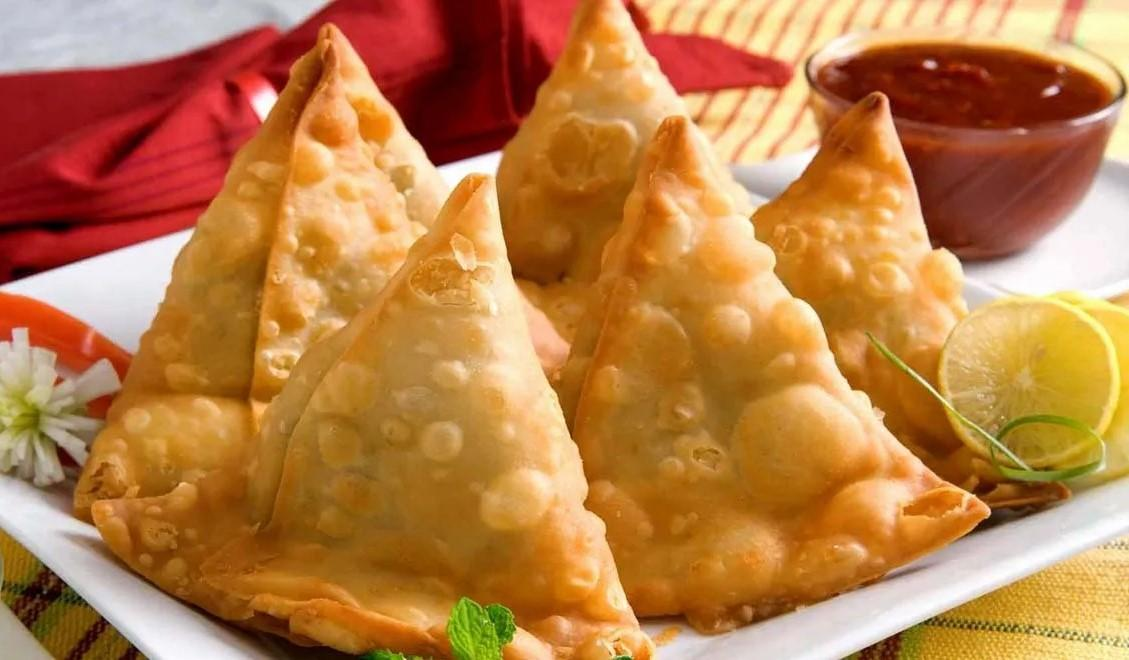Samosa: (94, 173, 653, 660), (70, 19, 579, 515), (537, 115, 987, 641), (747, 93, 971, 460), (498, 4, 732, 281)
